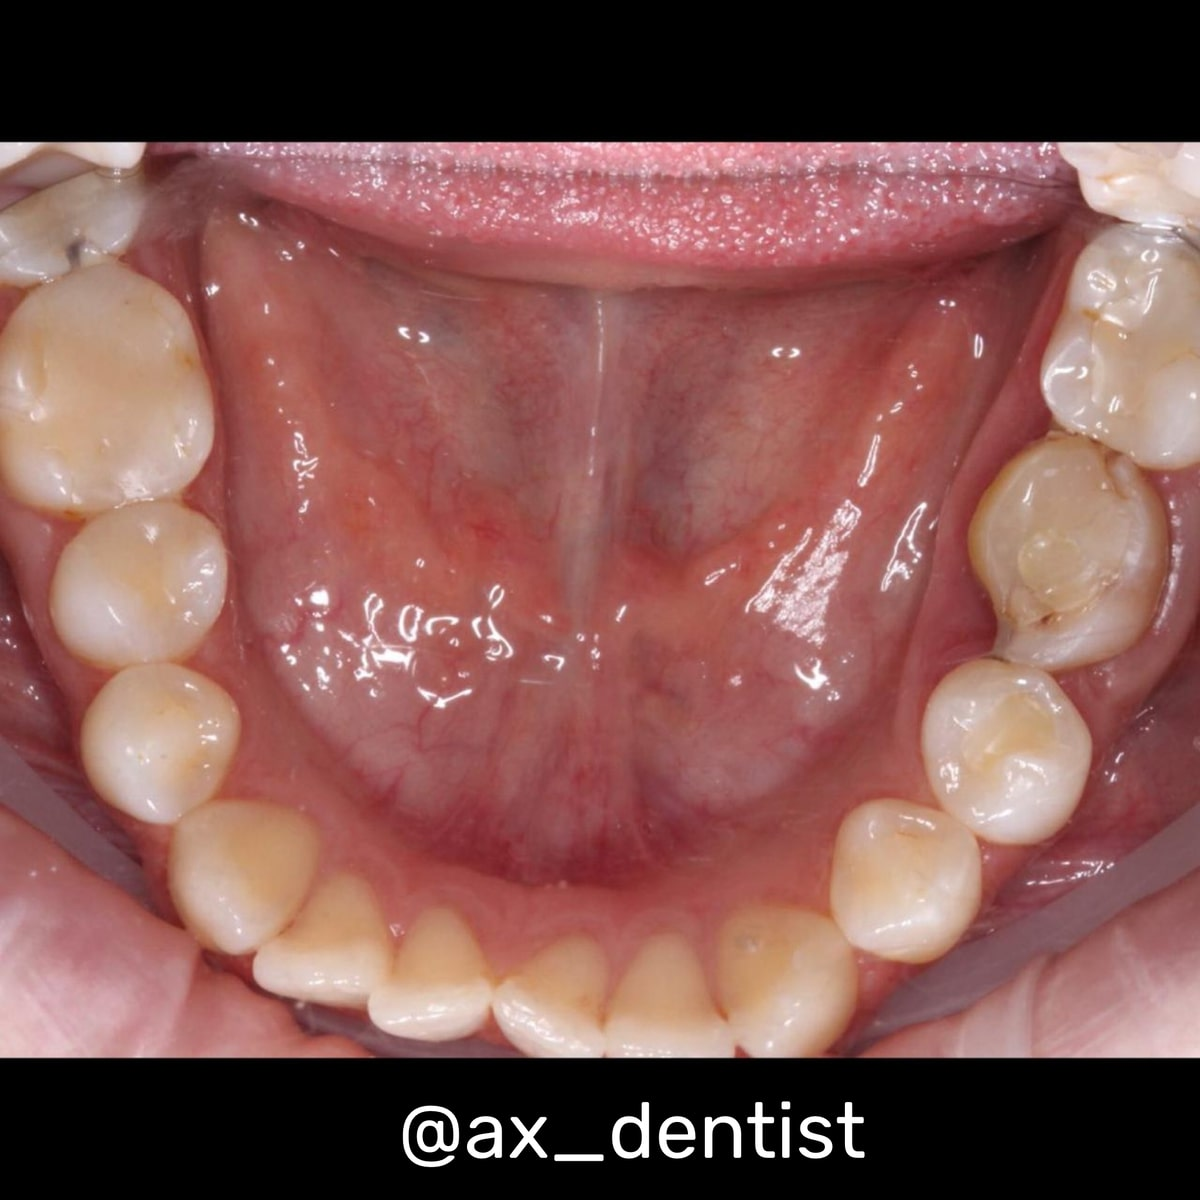LL1BC_healthy: (825, 789, 986, 955)
LL1M_decay: (964, 438, 1174, 663)
LL2BC_healthy: (925, 662, 1092, 849)
LL2M_decay: (1040, 224, 1200, 476)
LLCI_healthy: (488, 933, 616, 1057)
LLC_healthy: (721, 904, 873, 1058)
LLLI_healthy: (612, 927, 729, 1067)
LR1BC_healthy: (79, 664, 226, 816)
LR1M_healthy: (1, 270, 216, 511)
LR2BC_healthy: (46, 510, 227, 676)
LR2M_decay: (1, 114, 140, 262)
LRCI_healthy: (364, 905, 491, 1044)
LRC_healthy: (164, 795, 305, 946)
LRLI_healthy: (251, 862, 387, 1013)
